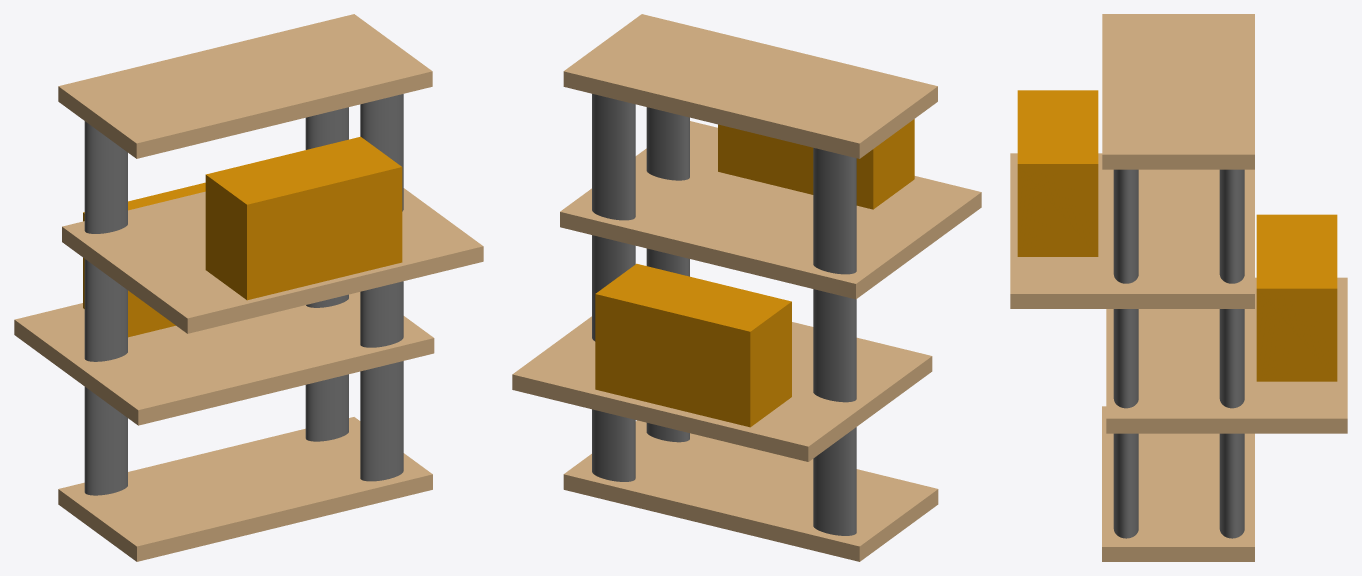
File: cattower_brown.glb
3 views of the same model, side by side, from view 1: azimuth 30°, elevation 25°; view 2: azimuth 150°, elevation 25°; view 3: azimuth 270°, elevation 25° (orthographic). The views are drawn at different scales.
Parts seen in each view (by area): view 1: mesh_id137; view 2: mesh_id137; view 3: mesh_id137.
Boxes of the visible parts, left/top/right/bottom form: mesh_id137: left=14, top=14, right=483, bottom=561; mesh_id137: left=512, top=14, right=981, bottom=561; mesh_id137: left=1010, top=14, right=1347, bottom=561.
Bounding box in the file's own units: 0.6 × 0.8 × 0.6.
